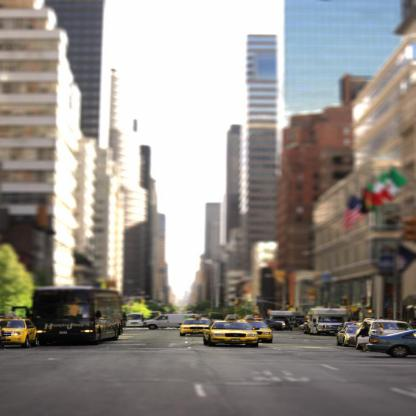Bus: (23, 288, 127, 346)
Car: (204, 316, 259, 348), (356, 318, 412, 349), (364, 330, 416, 360), (0, 317, 37, 347), (236, 317, 274, 343), (179, 315, 213, 335), (336, 325, 356, 347), (261, 319, 282, 329), (336, 322, 354, 332), (0, 328, 4, 349), (298, 322, 303, 330)
